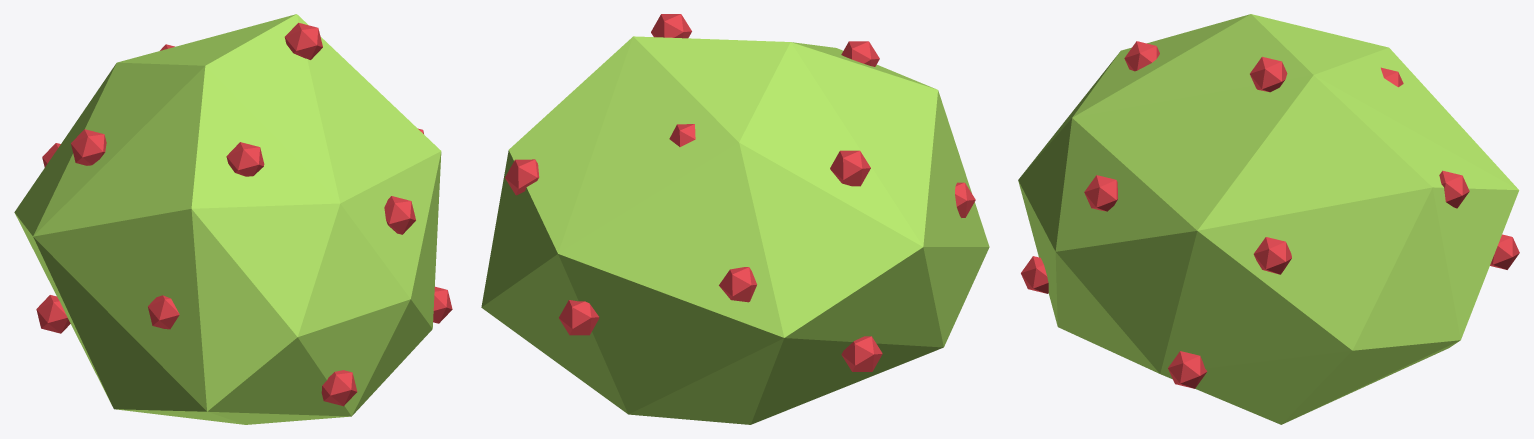
Rendered from bush.fbx.
3 renders of one model, left to right at view 1: azimuth 30°, elevation 25°; view 2: azimuth 150°, elevation 25°; view 3: azimuth 270°, elevation 25°, orthographic. The views are drawn at different scales.
Visible parts, largest first — view 1: Bush02, BushBerry02; view 2: Bush02, BushBerry02; view 3: Bush02, BushBerry02.
Boxes of the visible parts, x1,y1,x2,y2 form: Bush02: (14,14,441,424); BushBerry02: (36,22,452,406); Bush02: (481,36,989,424); BushBerry02: (505,14,975,371); Bush02: (1018,14,1519,424); BushBerry02: (1021,41,1519,388).
Size of the model in its own units: 136 by 122 by 152.
